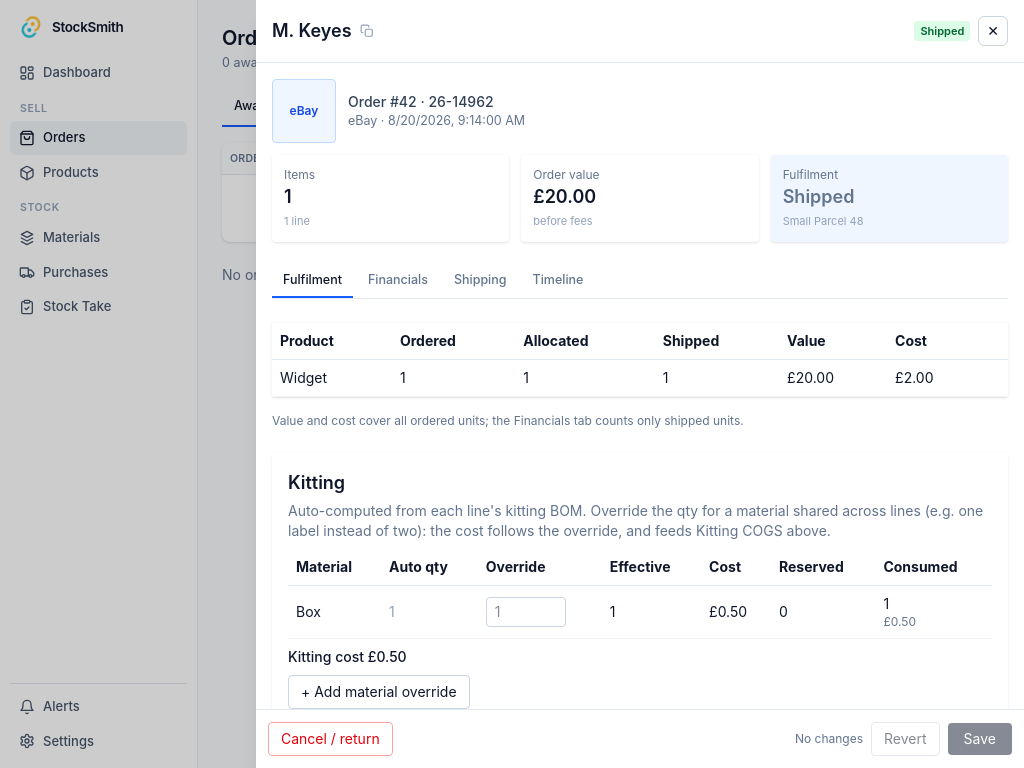
Test: shows a bulk-bought first label as not itemised and keeps the estimate as the postage cost
Expected: the heading "M. Keyes" is shown, [272,17,352,45]
Step 1. Click the button "Shipping" → [480, 282], box [443,266,518,298]
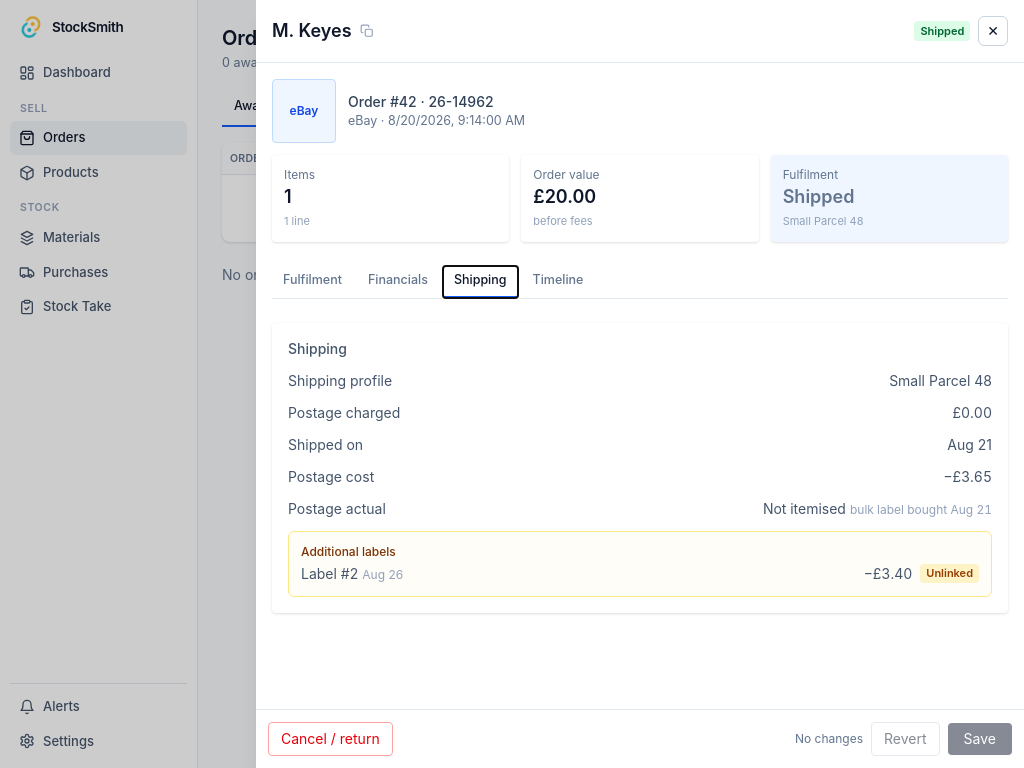
Expected: the text "Postage cost" is shown, [288,468,374,484]
Expected: the text "Postage actual" is shown, [288,500,386,516]
Expected: the text "Not itemised" is shown, [763,500,846,516]
